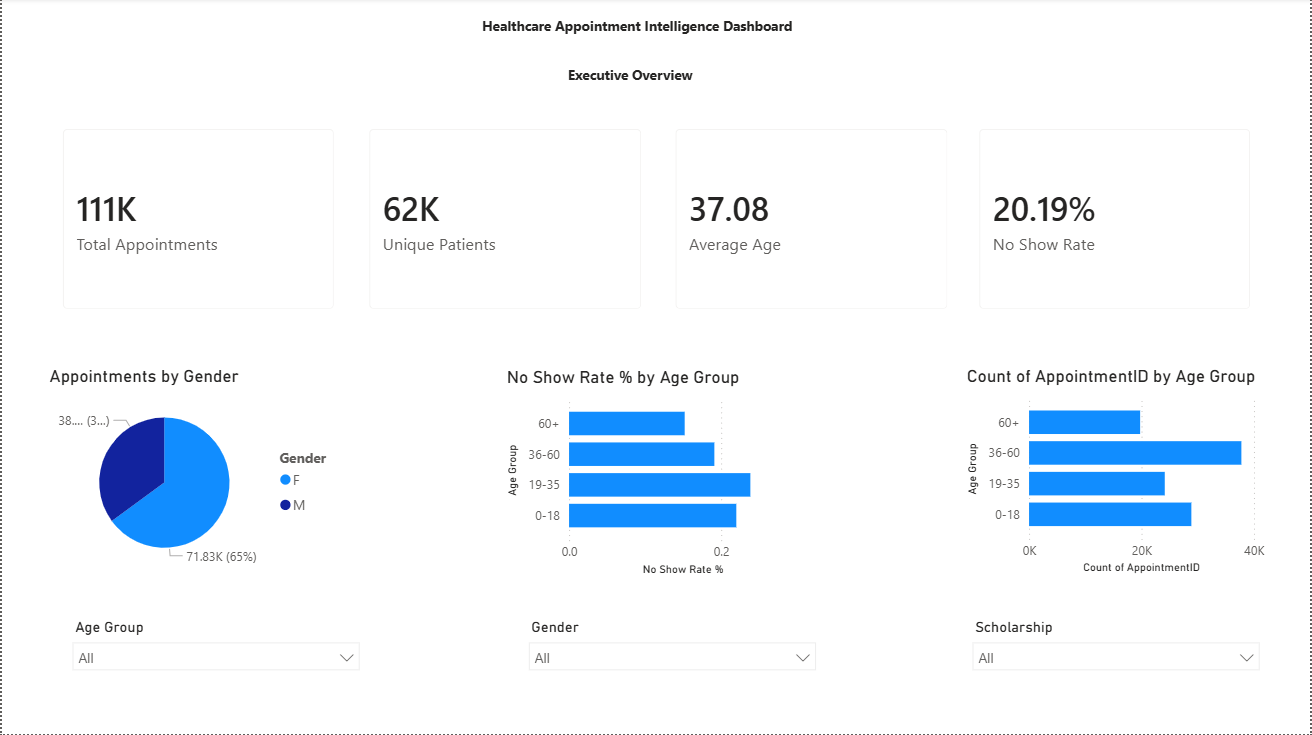

The page's visual inventory and layout, read from the dashboard file:
{"tool":"powerbi","page":{"name":"Executive Overview","canvas":[1280,720],"ordinal":0},"visuals":[{"type":"cardVisual","fields":{"Data":["healthcare_db appointments_clean.Total Appointments"]},"box":[42.8,111.3,299.6,210.3],"z":0},{"type":"cardVisual","title":"Unique Patients","fields":{"Data":["healthcare_db appointments_clean.Total Patients"]},"box":[342.4,111.3,300.8,210.3],"z":1000},{"type":"cardVisual","fields":{"Data":["healthcare_db appointments_clean.No Show Rate"]},"box":[939.1,111.3,299.6,210.3],"z":2000},{"type":"cardVisual","fields":{"Data":["healthcare_db appointments_clean.Average Age"]},"box":[642,111.3,300.8,210.3],"z":3000},{"type":"slicer","fields":{"Values":["healthcare_db appointments_clean.Gender"]},"box":[505,601.6,300.8,107.6],"z":4000},{"type":"slicer","fields":{"Values":["healthcare_db appointments_clean.Age Group"]},"box":[58.7,601.6,300.8,107.6],"z":5000},{"type":"slicer","fields":{"Values":["healthcare_db appointments_clean.Scholarship"]},"box":[939.1,601.6,300.8,107.6],"z":6000},{"type":"pieChart","title":"Appointments by Gender","fields":{"Category":["healthcare_db appointments_clean.Gender"],"Y":["CountNonNull(healthcare_db appointments_clean.AppointmentID)"]},"box":[41.6,359.5,300.8,210.3],"z":7000},{"type":"clusteredBarChart","fields":{"Category":["healthcare_db appointments_clean.Age Group"],"Y":["CountNonNull(healthcare_db appointments_clean.AppointmentID)"]},"box":[939.1,359.5,300.8,209.1],"z":8000},{"type":"clusteredBarChart","fields":{"Y":["healthcare_db appointments_clean.No Show Rate %"],"Category":["healthcare_db appointments_clean.Age Group"]},"box":[489.1,360.7,302,209.1],"z":9000},{"type":"textbox","box":[464.7,13.5,327.7,47.7],"z":9001},{"type":"textbox","box":[464.7,61.1,299.6,29.3],"z":9002}]}

Visuals, with their boxes in screenshot pixels (x1, y1, x2, y2), scaled from the page's 1280x720 canvas onto the 1312x735 screenshot:
cardVisual - healthcare_db appointments_clean.Total Appointments: bbox=(44, 114, 351, 328)
"Unique Patients" cardVisual: bbox=(351, 114, 659, 328)
cardVisual - healthcare_db appointments_clean.No Show Rate: bbox=(963, 114, 1270, 328)
cardVisual - healthcare_db appointments_clean.Average Age: bbox=(658, 114, 966, 328)
slicer - healthcare_db appointments_clean.Gender: bbox=(518, 614, 826, 724)
slicer - healthcare_db appointments_clean.Age Group: bbox=(60, 614, 368, 724)
slicer - healthcare_db appointments_clean.Scholarship: bbox=(963, 614, 1271, 724)
"Appointments by Gender" pieChart: bbox=(43, 367, 351, 582)
clusteredBarChart - healthcare_db appointments_clean.Age Group x CountNonNull(healthcare_db appointments_clean.AppointmentID): bbox=(963, 367, 1271, 580)
clusteredBarChart - healthcare_db appointments_clean.No Show Rate % x healthcare_db appointments_clean.Age Group: bbox=(501, 368, 811, 582)
textbox: bbox=(476, 14, 812, 62)
textbox: bbox=(476, 62, 783, 92)
